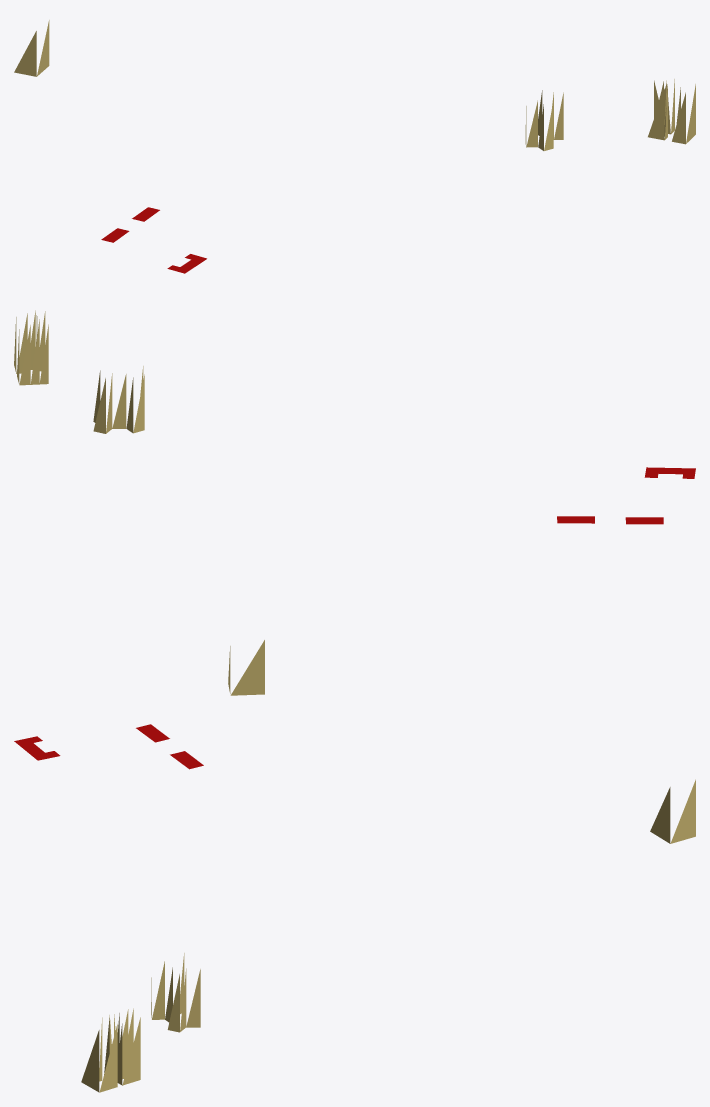
3 renders of one model, top to bottom at view 1: azimuth 30°, elevation 25°; view 2: azimuth 150°, elevation 25°; view 3: azimuth 270°, elevation 25°, orthographic. The views are drawn at different scales.
Size of the model in its own units: 1152 by 108 by 964.
